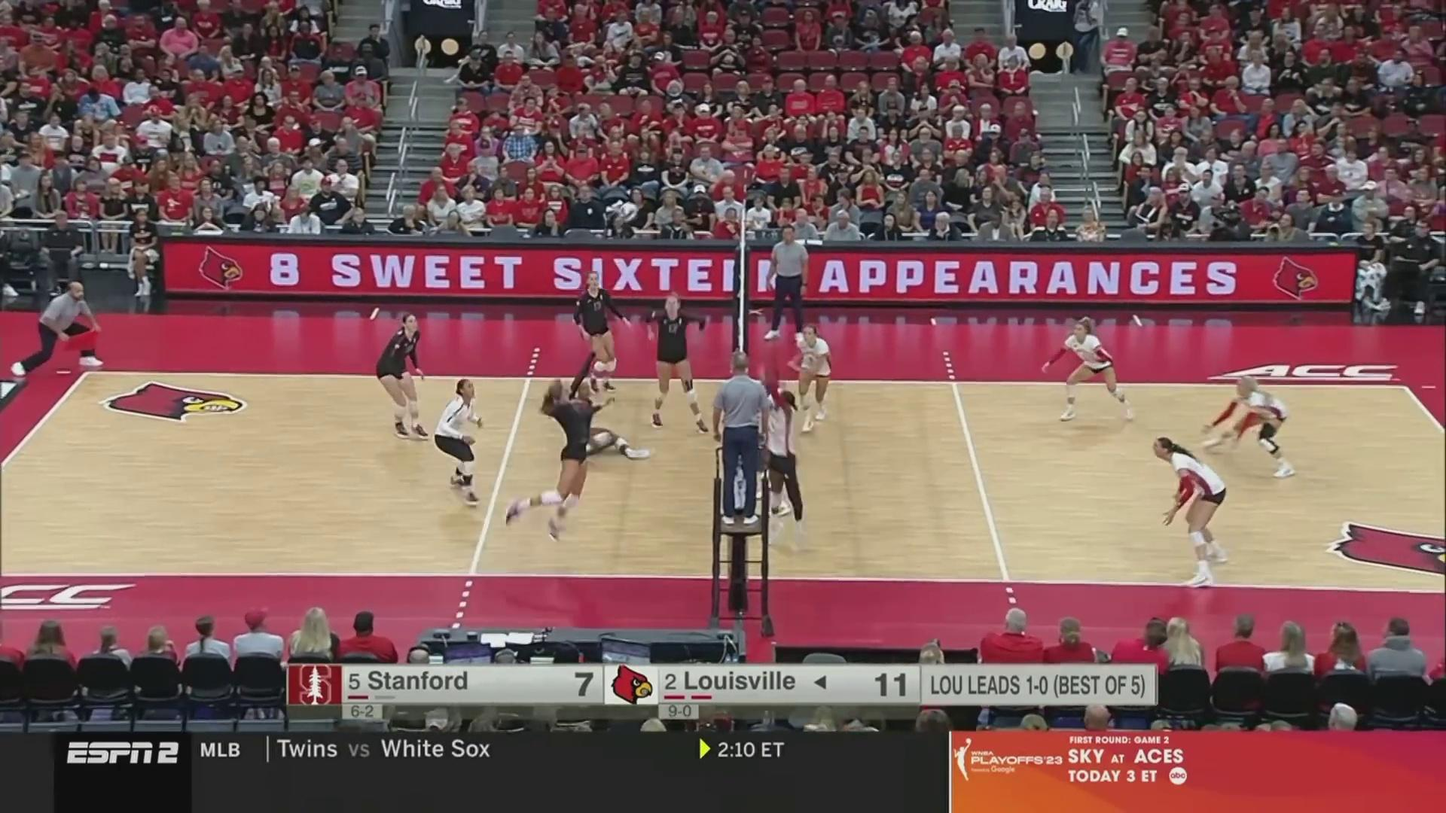player: (506, 380, 586, 541), (1150, 437, 1225, 586), (635, 291, 710, 438), (1211, 378, 1299, 480), (1041, 326, 1135, 421), (562, 378, 656, 463), (761, 381, 807, 540), (568, 275, 631, 391), (433, 378, 488, 502), (781, 319, 839, 428), (374, 318, 426, 438), (752, 375, 792, 520)
refree: (711, 348, 774, 526), (8, 283, 102, 384), (767, 228, 809, 343)
